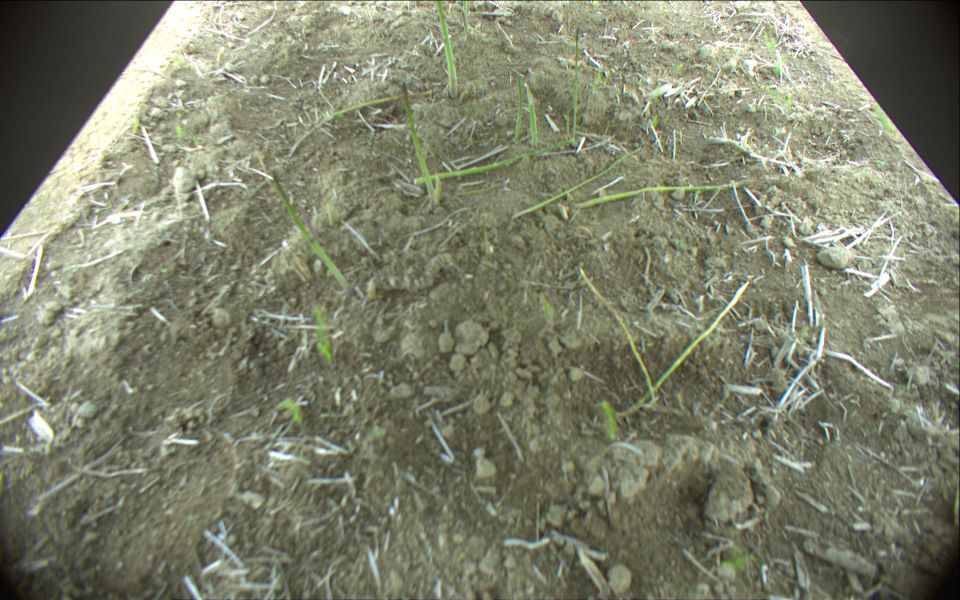aspa: (617, 280, 750, 418), (286, 87, 434, 157), (580, 272, 657, 405), (512, 147, 644, 219), (271, 169, 349, 290), (409, 139, 573, 184), (573, 178, 754, 209), (402, 84, 436, 211), (433, 1, 458, 101), (571, 25, 582, 140), (527, 87, 539, 147), (514, 73, 523, 140), (434, 174, 443, 207), (462, 10, 471, 41)
